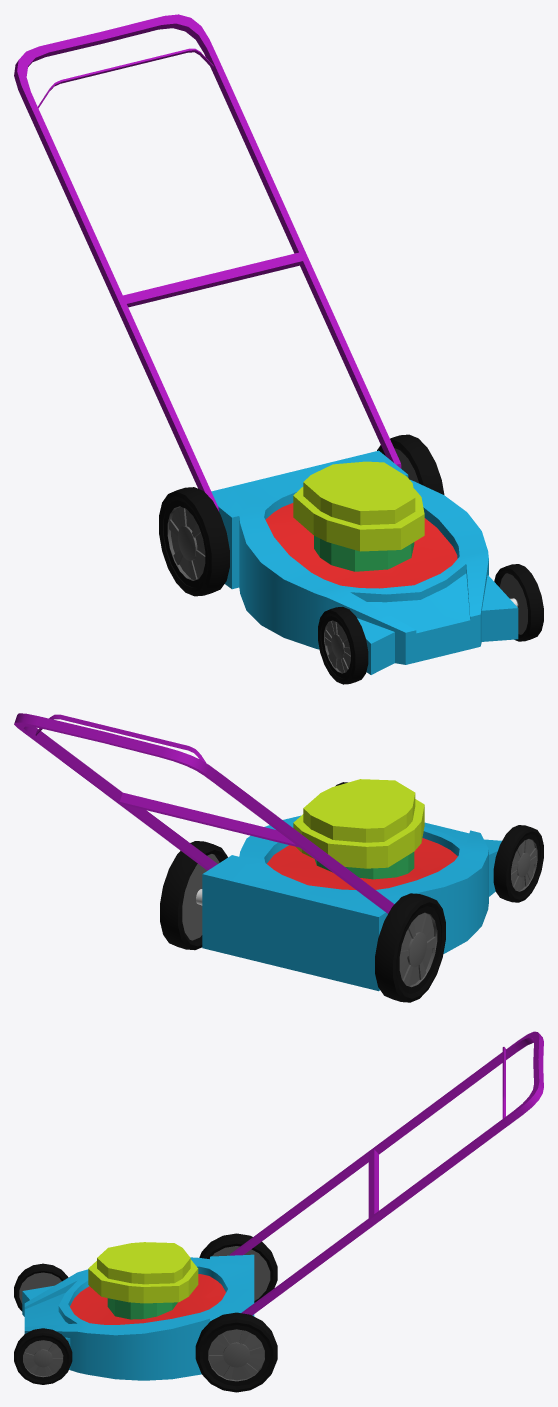
File: mesh_tondeuse.fbx
3 views of the same model, one above another, from view 1: azimuth 30°, elevation 25°; view 2: azimuth 150°, elevation 25°; view 3: azimuth 270°, elevation 25° (orthographic). The views are drawn at different scales.
Visible parts, largest first — view 1: MSH_Mower_low, Wheel_004, Wheel_005, Wheel_007, Wheel_, Wheel_006; view 2: MSH_Mower_low, Wheel_004, Wheel_, Wheel_006, Wheel_005; view 3: MSH_Mower_low, Wheel_, Wheel_007, Wheel_004, Wheel_005, Wheel_006.
Part boxes in pixels (x1,y1,x2,y2): MSH_Mower_low: [14, 14, 518, 674]; Wheel_004: [159, 487, 229, 596]; Wheel_005: [318, 607, 368, 684]; Wheel_007: [494, 564, 543, 641]; Wheel_: [377, 434, 444, 494]; Wheel_006: [318, 607, 352, 682]; MSH_Mower_low: [14, 713, 501, 991]; Wheel_004: [375, 893, 445, 1002]; Wheel_: [160, 841, 227, 950]; Wheel_006: [493, 827, 543, 902]; Wheel_005: [506, 825, 543, 900]; MSH_Mower_low: [22, 1031, 543, 1380]; Wheel_: [195, 1312, 277, 1392]; Wheel_007: [14, 1328, 72, 1384]; Wheel_004: [199, 1233, 277, 1302]; Wheel_005: [14, 1263, 63, 1311]; Wheel_006: [17, 1263, 68, 1308].
Size of the model in its own units: 65.53 by 103 by 169.
